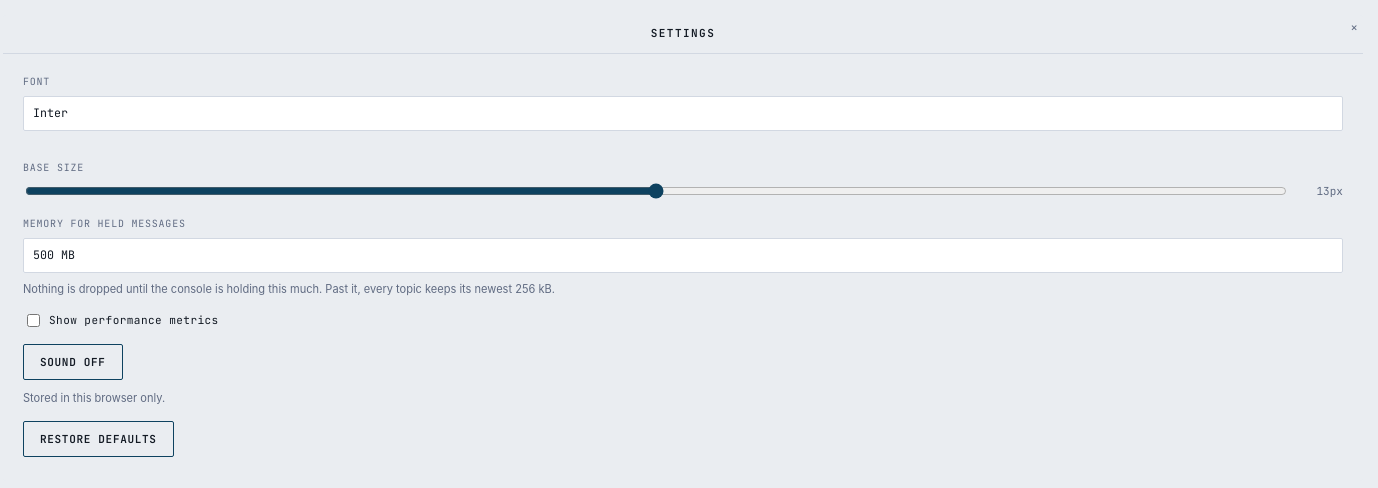
it: AppearancePanel › writes the slider value to the root font size and shows it
Set the slider labelled "Base size" to "14". click: (864, 191)
box: [25,183,1287,199]
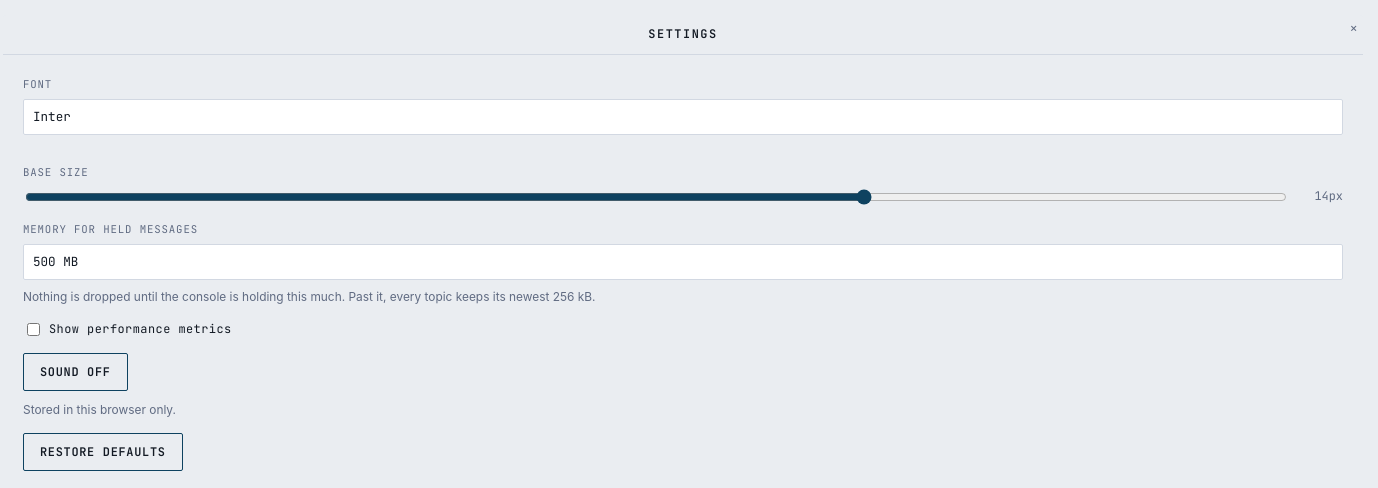
Expected: the text "14px" is shown, [1314,188,1343,204]
